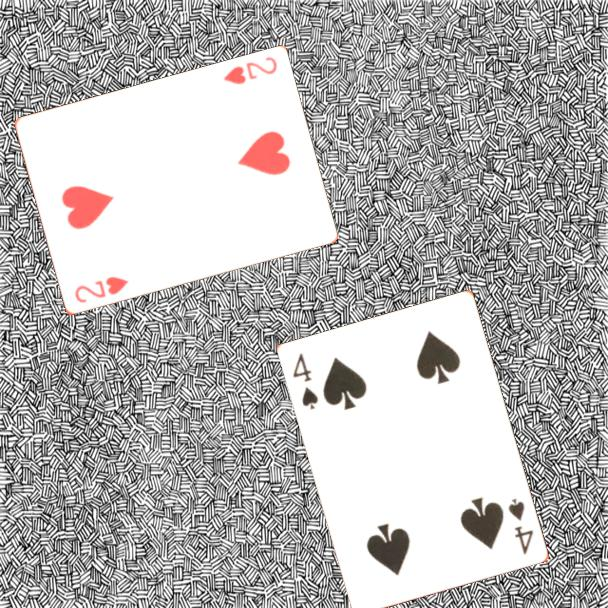h02: (219, 54, 280, 88), (71, 273, 131, 306)
s04: (289, 350, 322, 413), (505, 495, 537, 558)
